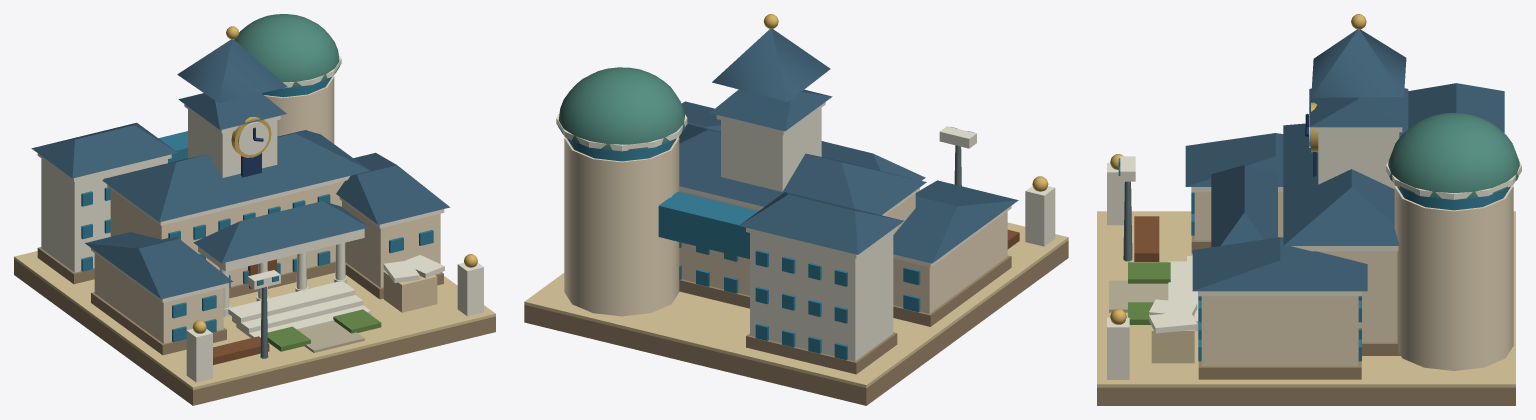
The model's file is university-lv4.glb.
3 renders of one model, left to right at view 1: azimuth 30°, elevation 25°; view 2: azimuth 150°, elevation 25°; view 3: azimuth 270°, elevation 25°, orthographic. The views are drawn at different scales.
Parts seen in each view (by area): view 1: foundation_sand, lecture_hall_roof_roof, foundation_stoneDark, research_hall_white, portico_pediment_roof, library_wing_roof_roof, observatory_dome_copper, lecture_hall_cream, library_wing_cream, science_wing_roof_roof, research_hall_roof_roof, entrance_steps_white (+27 smaller); view 2: observatory_cream, research_hall_white, foundation_sand, foundation_stoneDark, lecture_hall_roof_roof, observatory_dome_copper, library_wing_roof_roof, clock_tower_white, research_hall_roof_roof, library_wing_cream, tower_cap_roof, research_bridge_glass (+15 smaller); view 3: observatory_cream, foundation_sand, science_wing_cream, lecture_hall_roof_roof, observatory_dome_copper, foundation_stoneDark, science_wing_roof_roof, tower_cap_roof, portico_pediment_roof, clock_tower_white, library_wing_roof_roof, lecture_hall_cream (+19 smaller).
Boxes of the visible parts, x1,y1,x2,y2 form: foundation_sand: (14, 251, 495, 390); lecture_hall_roof_roof: (102, 130, 369, 222); foundation_stoneDark: (14, 259, 495, 405); research_hall_white: (37, 153, 171, 272); portico_pediment_roof: (193, 201, 369, 263); library_wing_roof_roof: (85, 232, 232, 299); observatory_dome_copper: (234, 14, 339, 87); lecture_hall_cream: (110, 181, 344, 286); library_wing_cream: (94, 253, 223, 343); science_wing_roof_roof: (336, 152, 450, 224); research_hall_roof_roof: (31, 122, 177, 178); entrance_steps_white: (228, 281, 371, 337); observatory_cream: (564, 137, 679, 316); research_hall_white: (746, 226, 897, 361); foundation_sand: (524, 222, 1068, 388); foundation_stoneDark: (524, 240, 1068, 405); lecture_hall_roof_roof: (679, 124, 926, 215); observatory_dome_copper: (558, 67, 684, 150); library_wing_roof_roof: (893, 180, 1018, 263); clock_tower_white: (716, 102, 825, 191); research_hall_roof_roof: (739, 192, 903, 254); library_wing_cream: (893, 211, 1007, 313); tower_cap_roof: (712, 29, 830, 101); research_bridge_glass: (658, 191, 758, 258); observatory_cream: (1394, 185, 1513, 370); foundation_sand: (1097, 211, 1515, 387); science_wing_cream: (1201, 296, 1358, 366); lecture_hall_roof_roof: (1283, 123, 1408, 245); observatory_dome_copper: (1388, 113, 1519, 198); foundation_stoneDark: (1097, 387, 1515, 405); science_wing_roof_roof: (1192, 237, 1367, 291); tower_cap_roof: (1311, 29, 1406, 97); portico_pediment_roof: (1211, 165, 1277, 247); clock_tower_white: (1315, 127, 1402, 188); library_wing_roof_roof: (1185, 133, 1283, 186); lecture_hall_cream: (1317, 251, 1397, 342).
Bounding box in the file's own units: 0.9633 × 0.7913 × 1.
